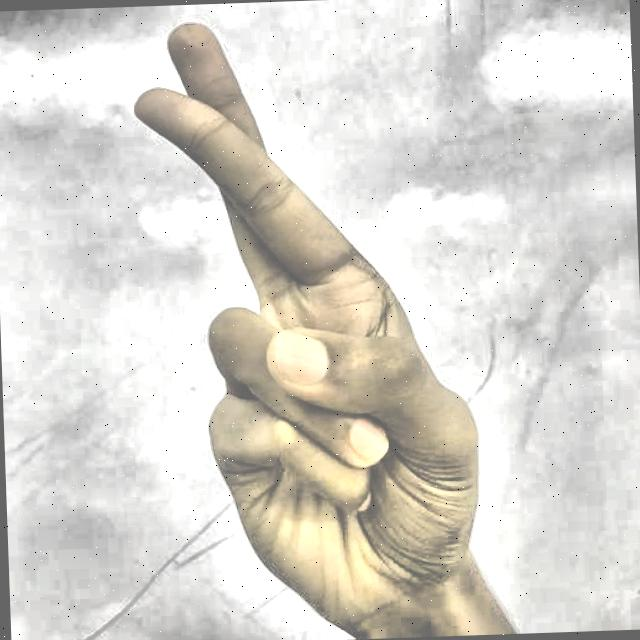Ra: (105, 11, 520, 640)
